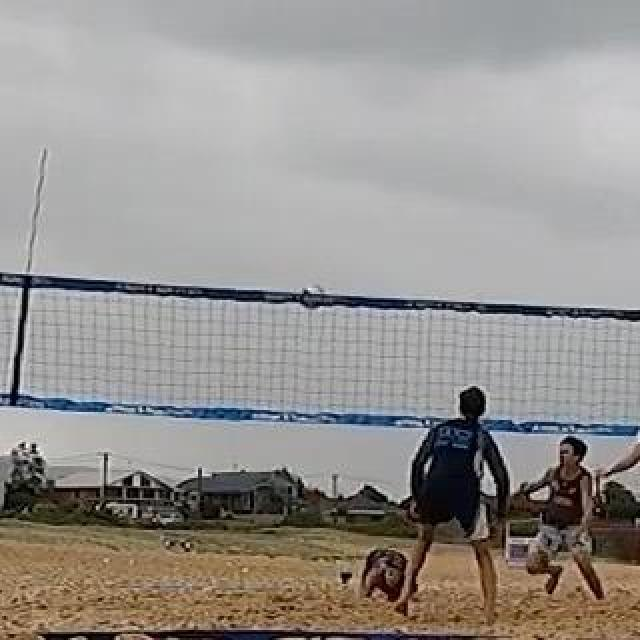volleyball: (300, 287, 322, 309)
